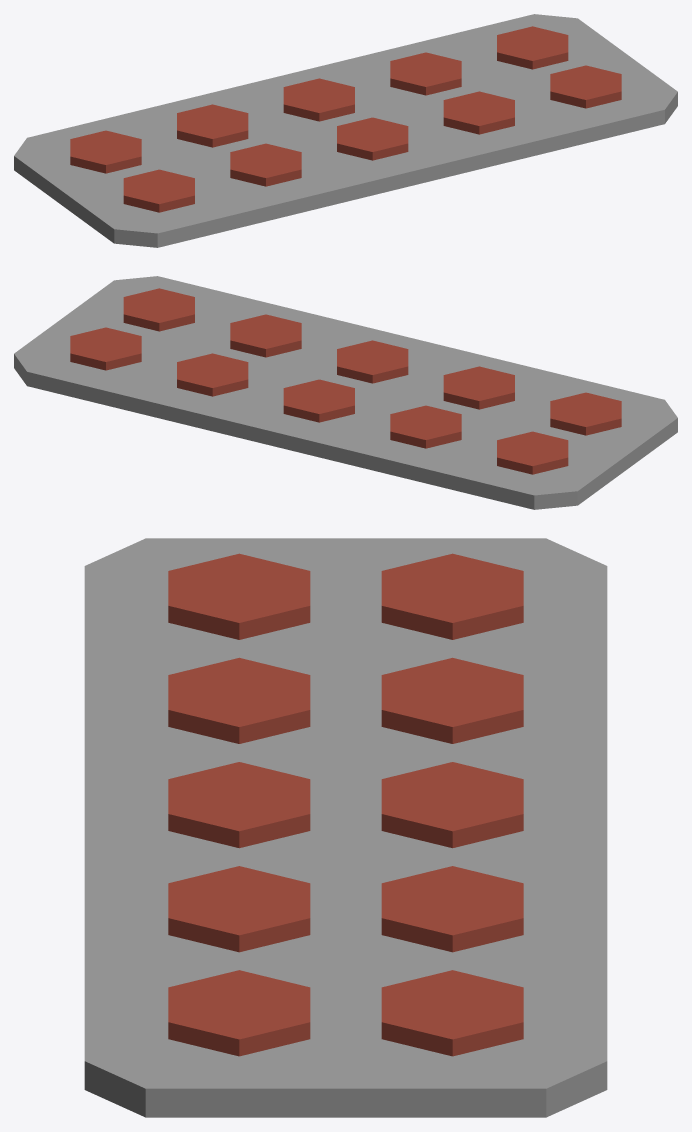
The model's file is MedicalKit_04.fbx.
3 views of the same model, one above another, from view 1: azimuth 30°, elevation 25°; view 2: azimuth 150°, elevation 25°; view 3: azimuth 270°, elevation 25° (orthographic). The views are drawn at different scales.
Visible parts, largest first — view 1: MedicalKit_04; view 2: MedicalKit_04; view 3: MedicalKit_04.
Part boxes in pixels (<box>): MedicalKit_04: <box>14,14,677,247</box>; MedicalKit_04: <box>14,276,677,509</box>; MedicalKit_04: <box>84,538,607,1117</box>.
Size of the model in its own units: 12.59 by 0.4892 by 5.06.
